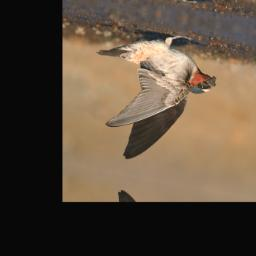Swallow: (82, 19, 222, 175)
